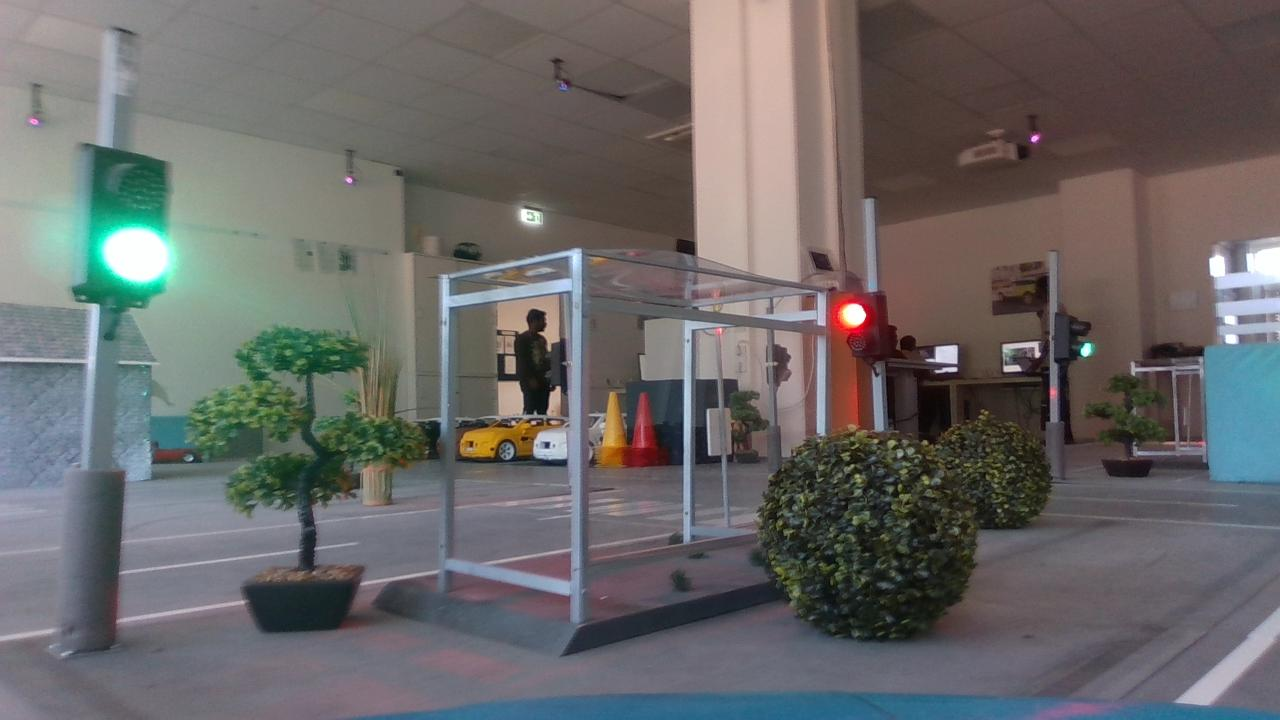traffic_light_green: (57, 125, 194, 316)
